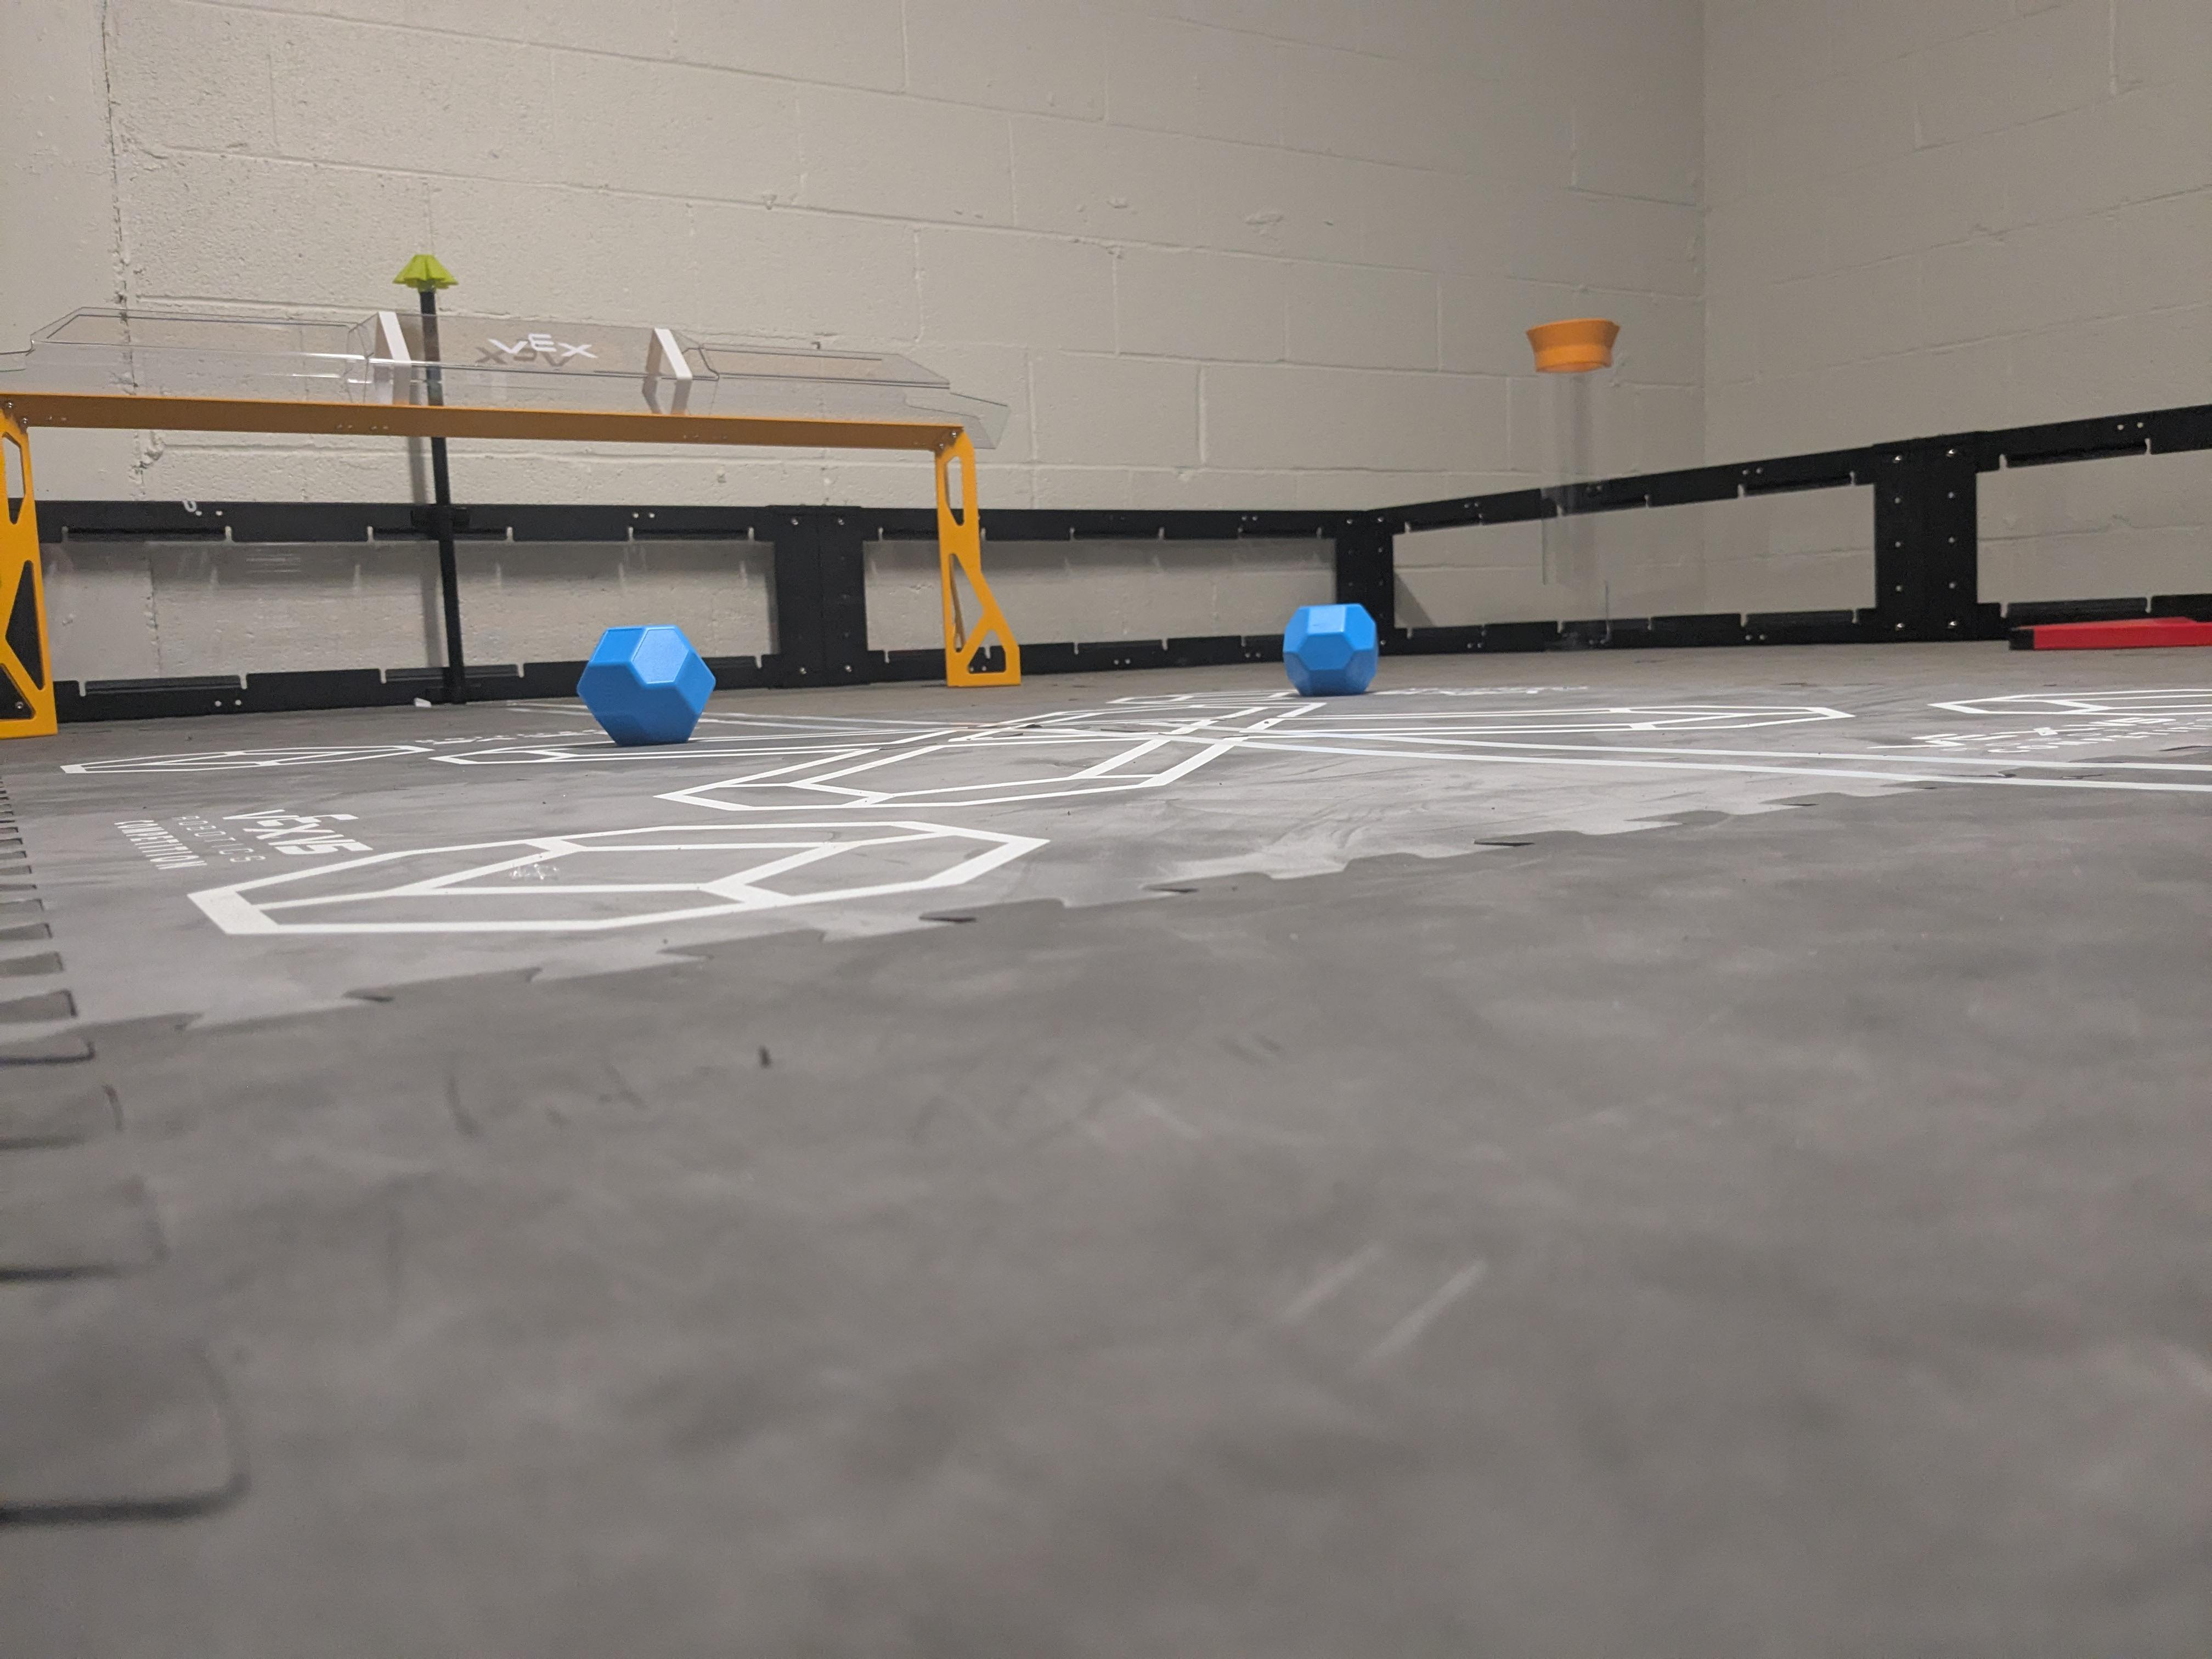Vex-Pieces-BLUE: (580, 627, 714, 744), (1282, 603, 1378, 692)
